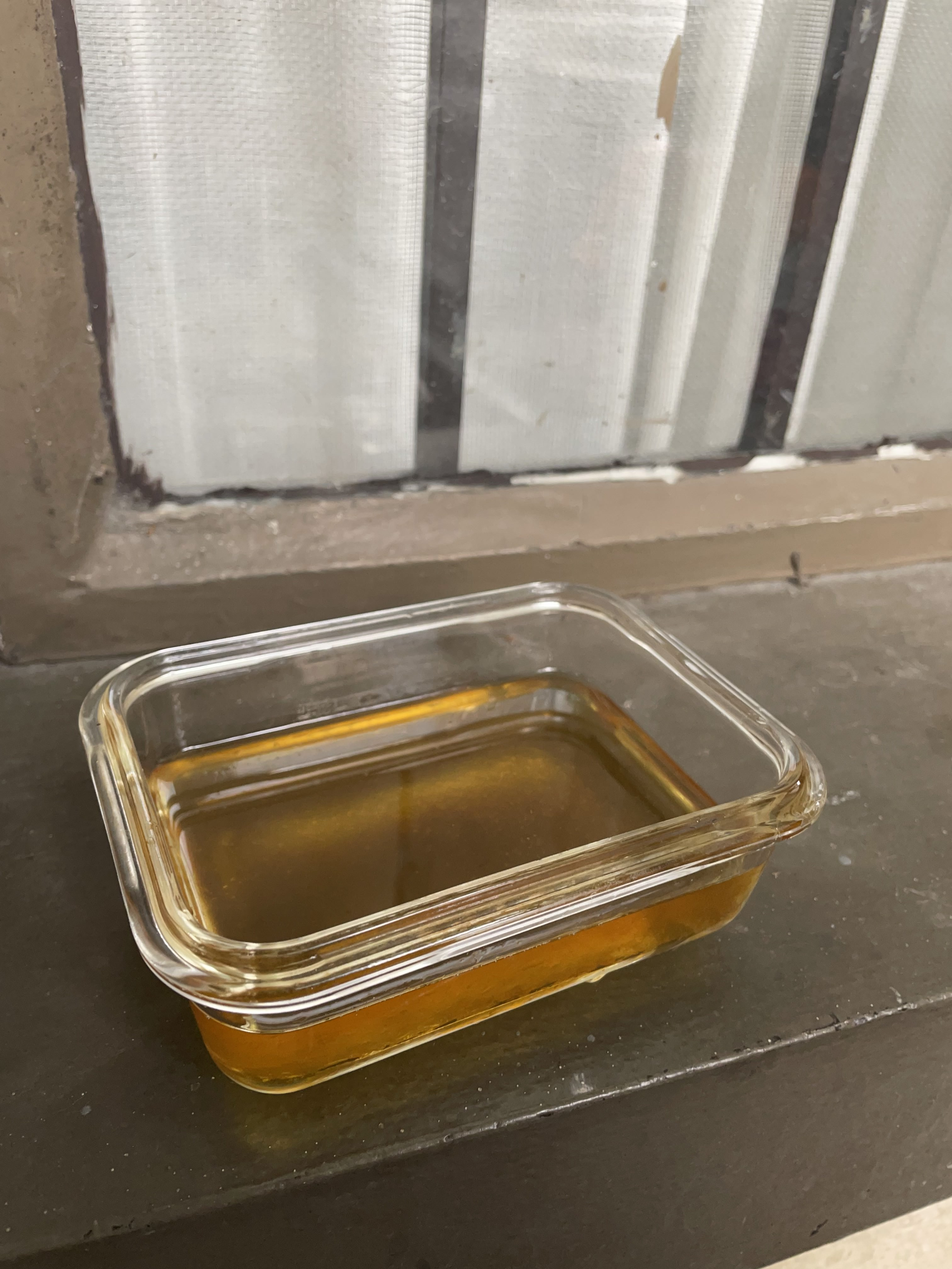reusable: (148, 670, 711, 938)
